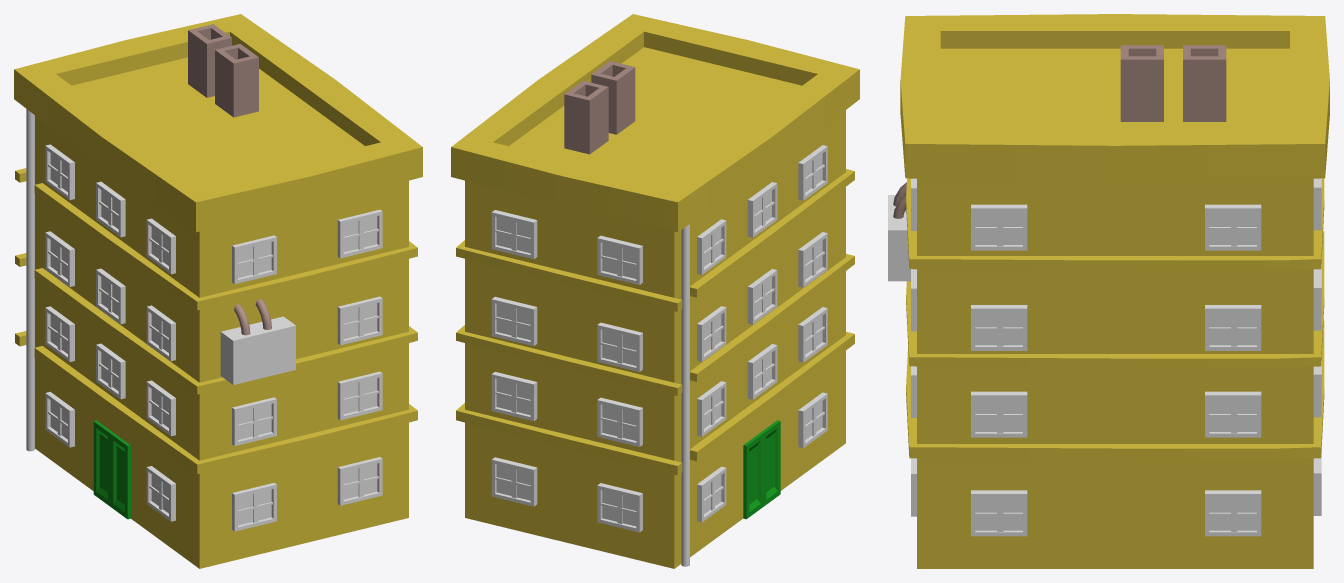
The model's file is batiment 2.FBX.
The picture shows the model from 3 angles, left to right: view 1: azimuth 30°, elevation 25°; view 2: azimuth 150°, elevation 25°; view 3: azimuth 270°, elevation 25°; orthographic projection. The views are drawn at different scales.
Parts seen in each view (by area): view 1: batiment 2, fenetre 2, Box006, Box004, Cylinder003, porte entrée2; view 2: batiment 2, fenetre 2, Box006, Cylinder003, porte entrée2; view 3: batiment 2, fenetre 2, Box006, Box004.
Part boxes in pixels (x1,y1,x2,y2): batiment 2: (14,14,422,568); fenetre 2: (45,144,382,531); Box006: (188,24,258,117); Box004: (220,316,295,384); Cylinder003: (26,109,34,451); porte entrée2: (93,420,130,519); batiment 2: (451,14,859,568); fenetre 2: (491,145,827,532); Box006: (564,61,635,154); Cylinder003: (681,224,689,566); porte entrée2: (743,420,780,519); batiment 2: (900,14,1329,568); fenetre 2: (911,178,1321,536); Box006: (1120,45,1226,121); Box004: (888,195,910,281).
Size of the model in its own units: 827 by 1387 by 1171.
